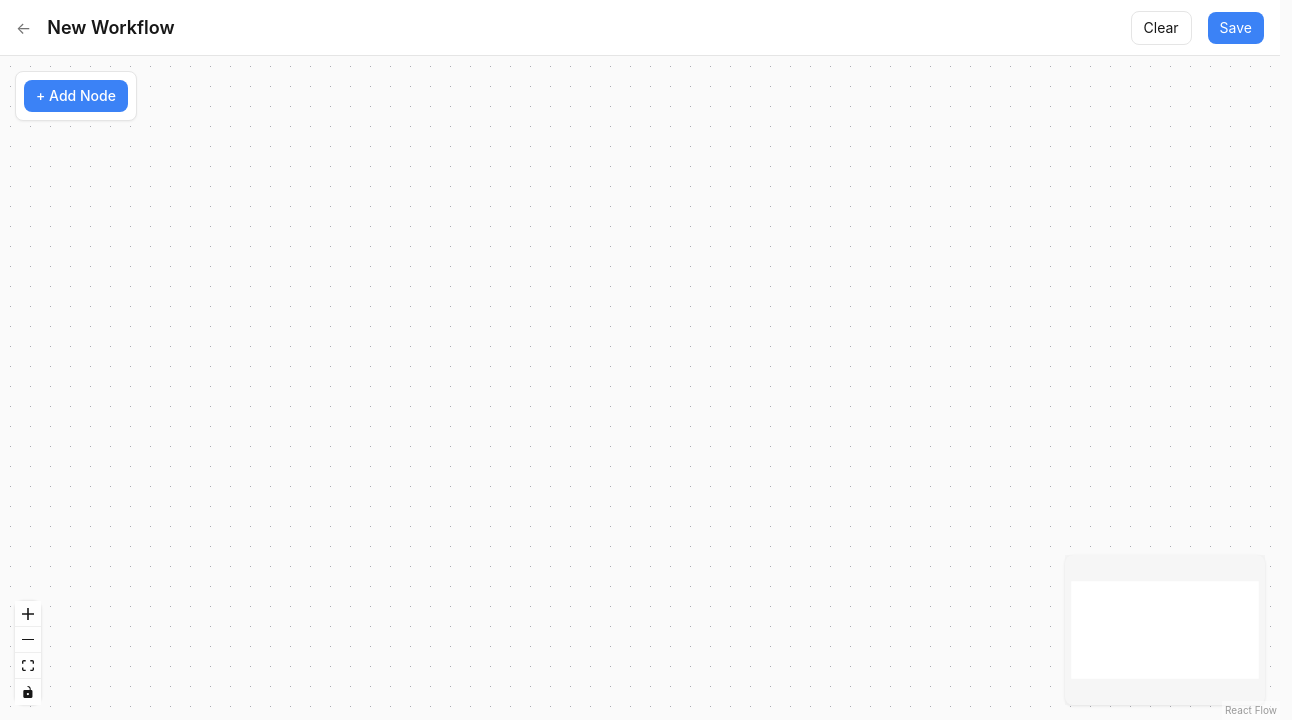
Test: WorkflowCreatePage › should add condition node
This screenshot has width=1292, height=720.
Click the button "+ Add Node": (76, 96) [24, 80, 128, 112]
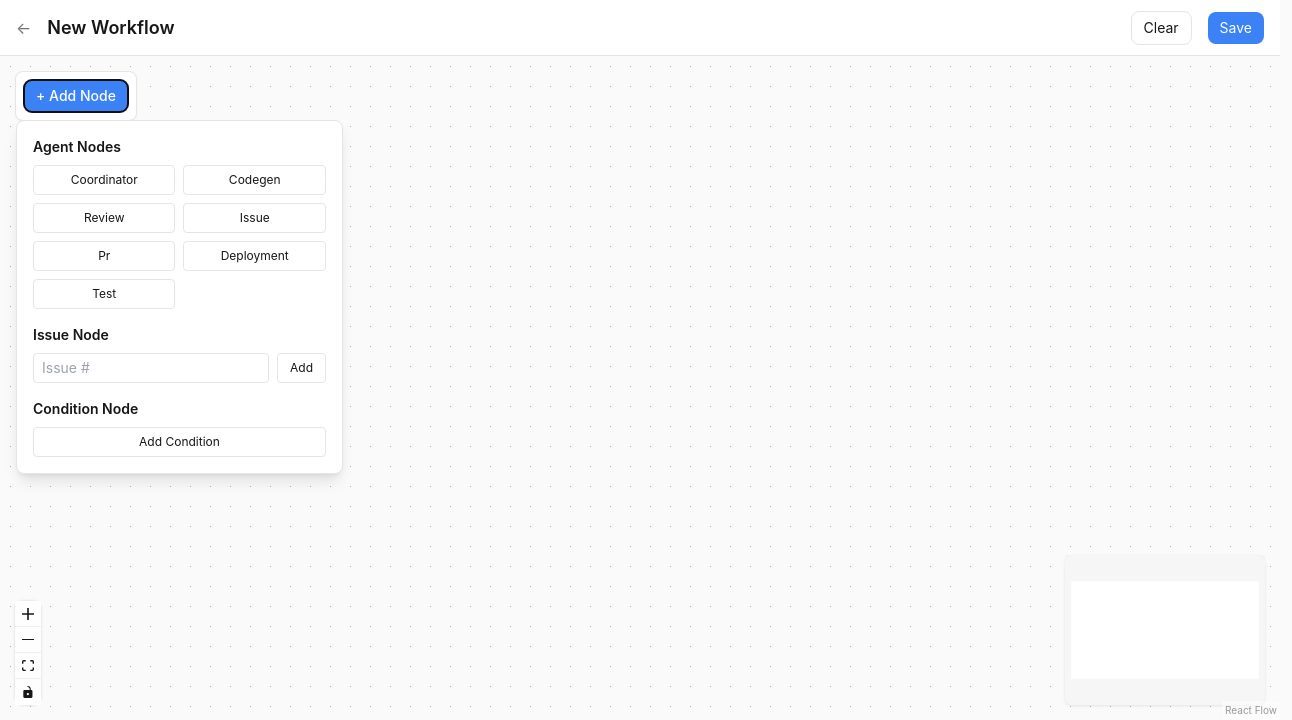
Click the button "Add Condition": (180, 442) [33, 427, 326, 457]
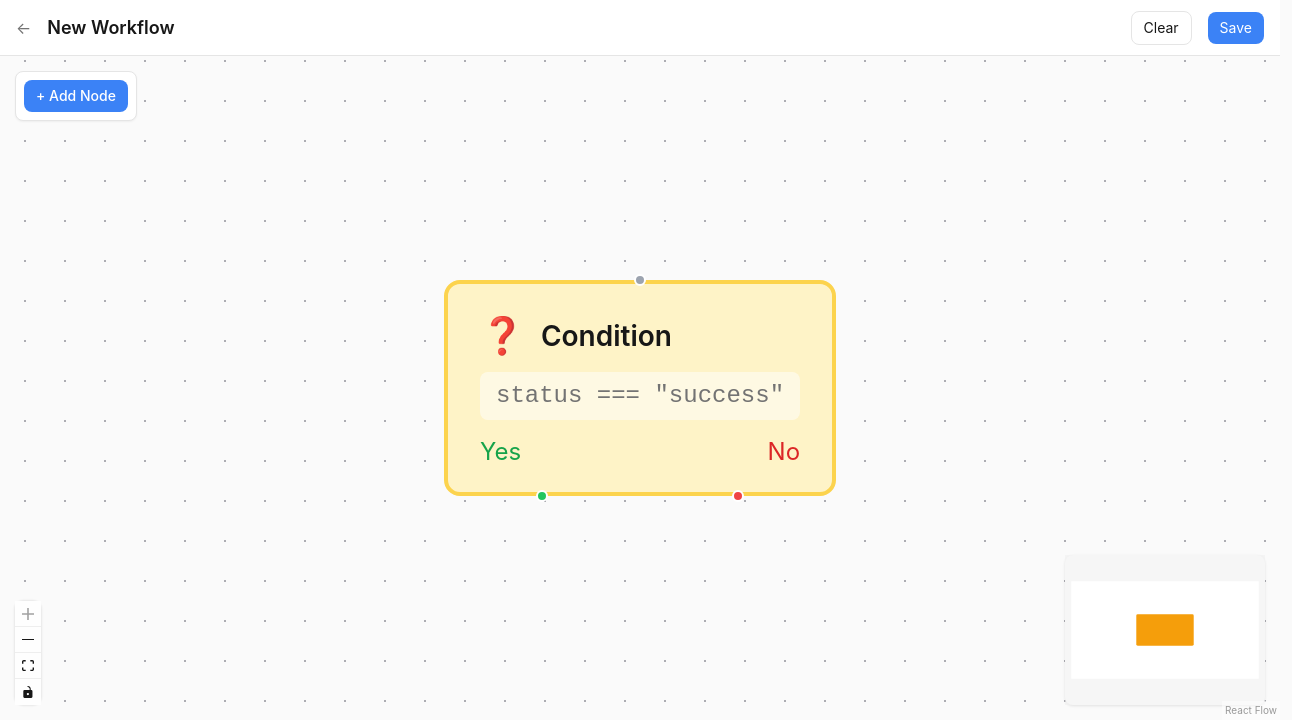
Expected: the heading "Agent Nodes" is gone
